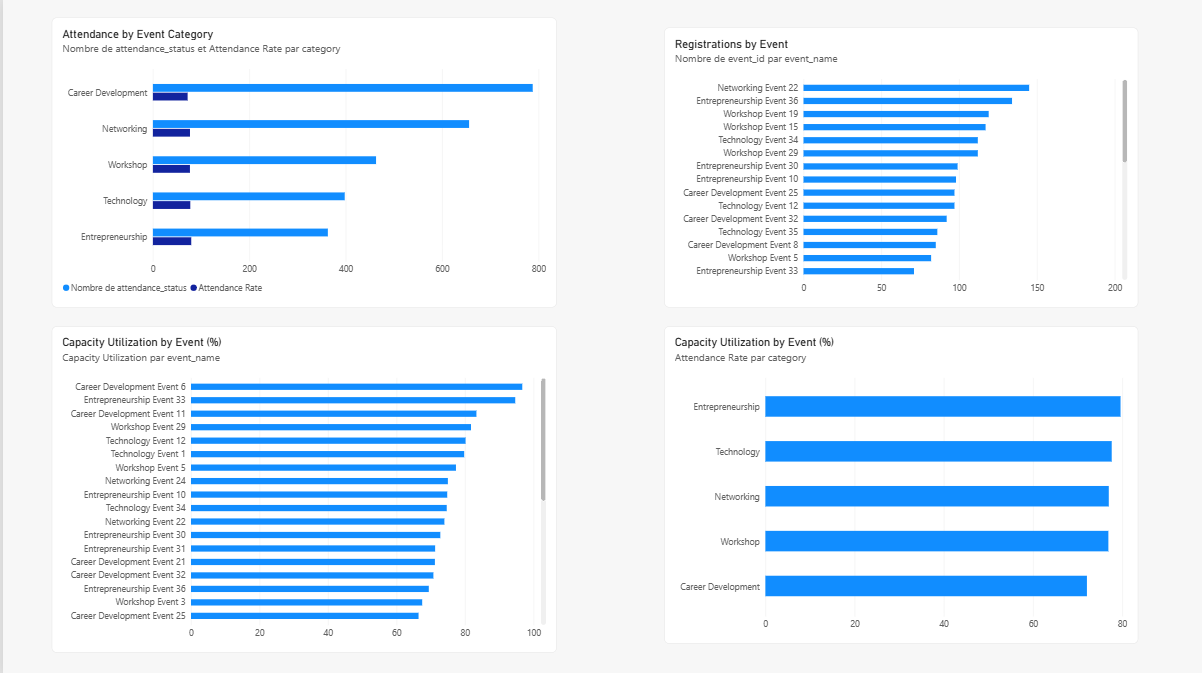

Layout of this report page (visuals, bound fields, positions):
{"tool":"powerbi","page":{"name":"Event Performance","canvas":[1920,1080],"ordinal":1},"visuals":[{"type":"clusteredBarChart","title":"Attendance by Event Category","fields":{"Category":["public events.category"],"Y":["CountNonNull(public registrations.attendance_status)","public registrations.Attendance Rate"]},"box":[78,28,808,464],"z":0},{"type":"clusteredBarChart","title":"Registrations by Event","fields":{"Category":["public events.event_name"],"Y":["CountNonNull(public registrations.event_id)"]},"box":[1058,44,758,448],"z":1000},{"type":"clusteredBarChart","title":"Capacity Utilization by Event (%)","fields":{"Category":["public events.event_name"],"Y":["public registrations.Capacity Utilization"]},"box":[78,522,808,522],"z":2000},{"type":"clusteredBarChart","title":"Capacity Utilization by Event (%)","fields":{"Category":["public events.category"],"Y":["public registrations.Attendance Rate"]},"box":[1058,522,758,508],"z":3000}]}

Visuals, with their boxes in screenshot pixels (x1, y1, x2, y2), scaled from the page's 1920x1080 canvas onto the 1202x673 screenshot:
"Attendance by Event Category" clusteredBarChart: 49,17,555,307
"Registrations by Event" clusteredBarChart: 662,27,1137,307
"Capacity Utilization by Event (%)" clusteredBarChart: 49,325,555,651
"Capacity Utilization by Event (%)" clusteredBarChart: 662,325,1137,642
